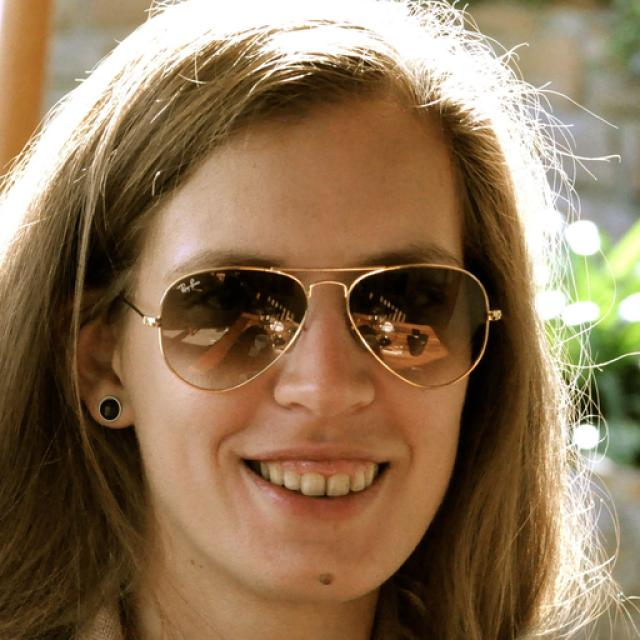Acne: (313, 564, 346, 599)
